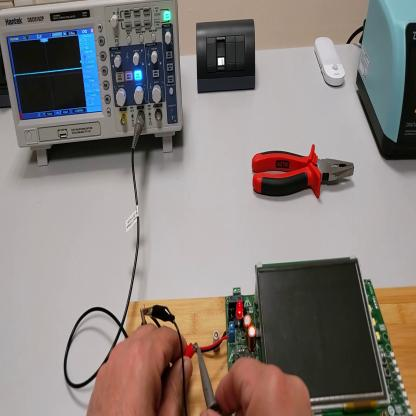hand: (86, 325, 192, 416), (215, 359, 313, 415)
low voltage board: (201, 257, 414, 415)
oscilloscope: (3, 2, 183, 166)
oscilloscope probe tip: (197, 345, 222, 413)
pliers: (251, 145, 356, 204)
socket: (1, 44, 14, 115)
welder station: (355, 4, 416, 160)
working area: (127, 288, 416, 414)
